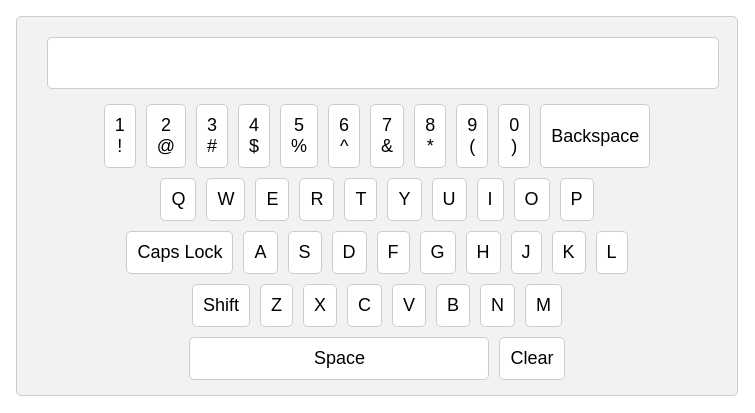
Test: Keyboard Component › Checking if it types characters into the input field
Click the button "H".
click(483, 252)  # box [466,231,500,274]
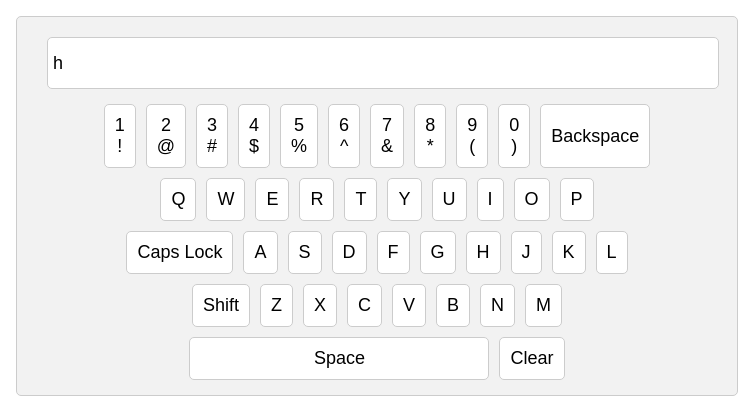
Click the button "E".
click(272, 200)  # box [256,178,290,221]
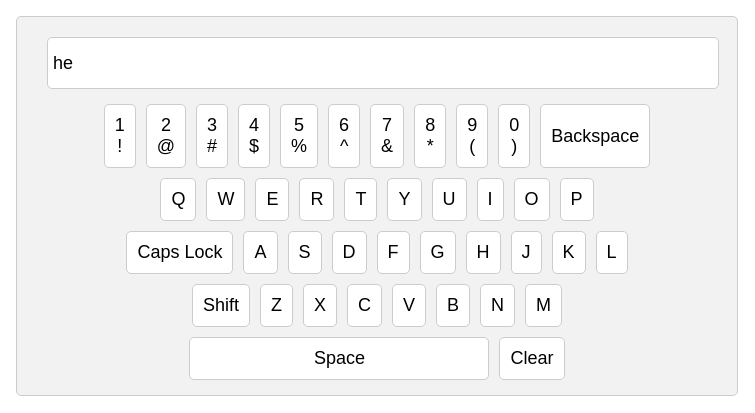
Click the button "L".
click(612, 252)  # box [596,231,628,274]
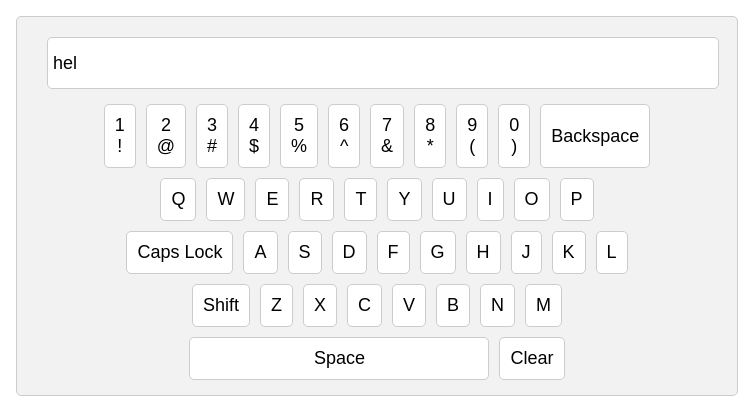
Click the button "L".
click(612, 252)  # box [596,231,628,274]
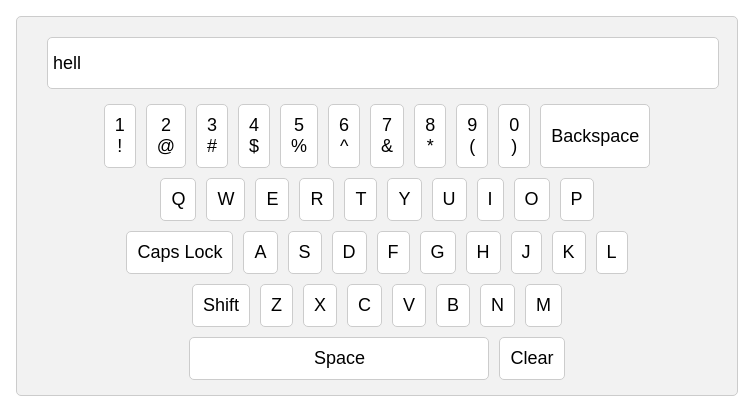
Click the button "O".
click(532, 200)  # box [514,178,550,221]
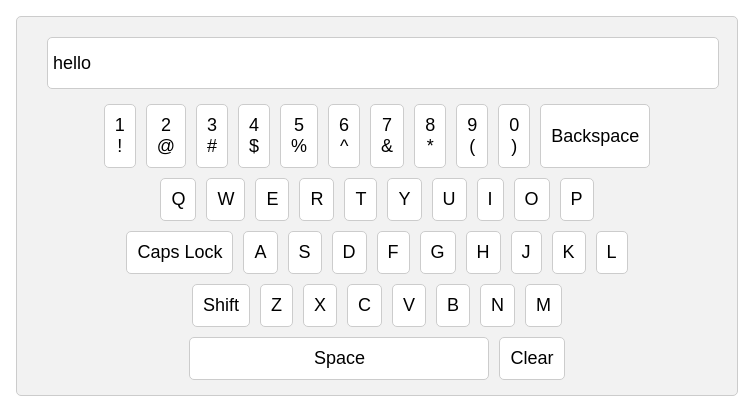
Expected: the field with test id "input-field" holds "hello", [47,37,719,89]
